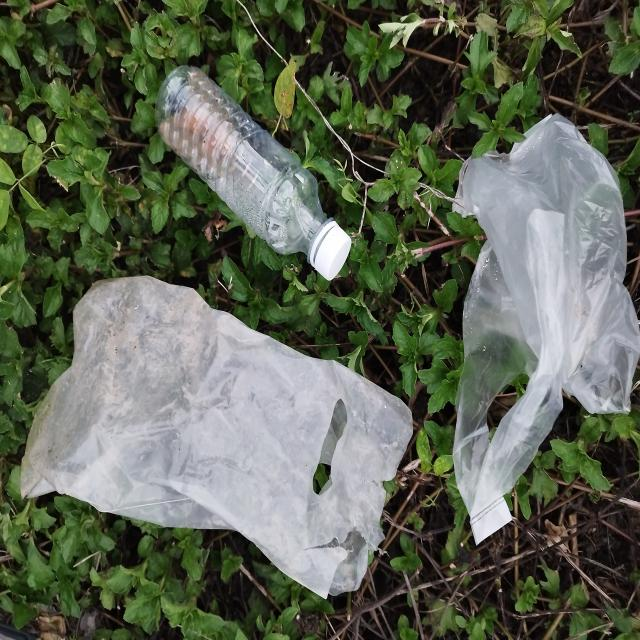bag: (19, 275, 413, 599), (451, 111, 640, 546)
bottle: (155, 66, 352, 283)
